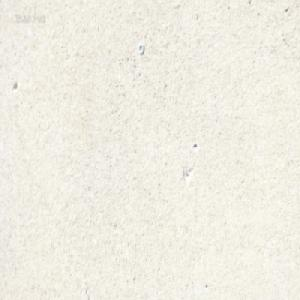Washer: (138, 44, 145, 54)
